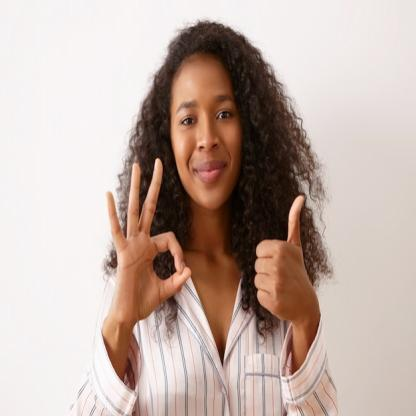ok: (104, 156, 192, 322)
thumb_up: (254, 190, 312, 323)
